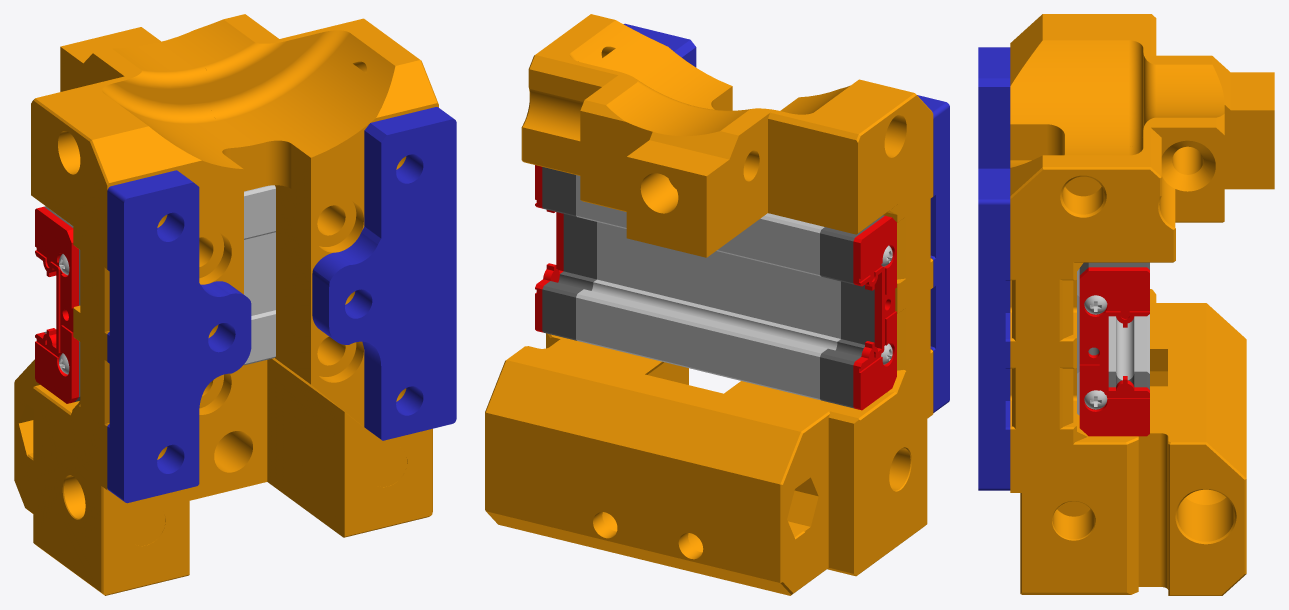
The model's file is Gantry for MGN9 RAILS.step.glb.
3 renders of one model, left to right at view 1: azimuth 30°, elevation 25°; view 2: azimuth 150°, elevation 25°; view 3: azimuth 270°, elevation 25°, orthographic. The views are drawn at different scales.
Bounding box in the file's own units: 0.0404 × 0.0518 × 0.0325.
